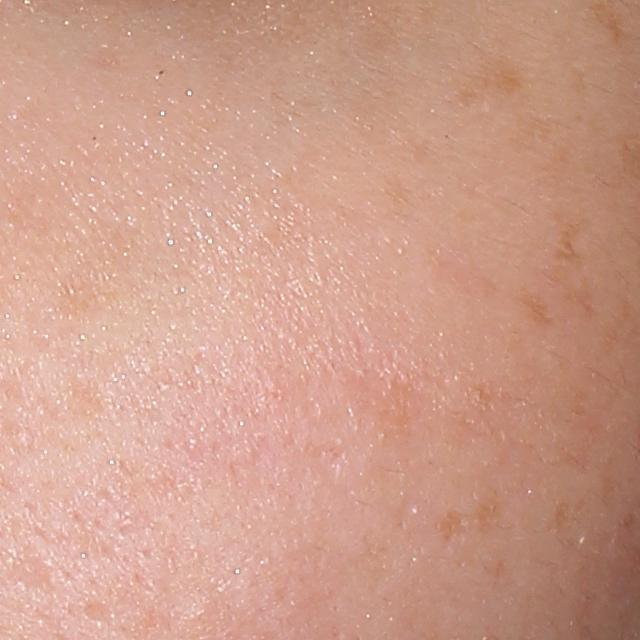atrophic_scar: (0, 538, 59, 596), (82, 595, 121, 630)
melasma: (446, 50, 535, 111), (424, 493, 511, 548), (554, 269, 601, 322), (510, 286, 558, 332), (549, 220, 585, 266)
